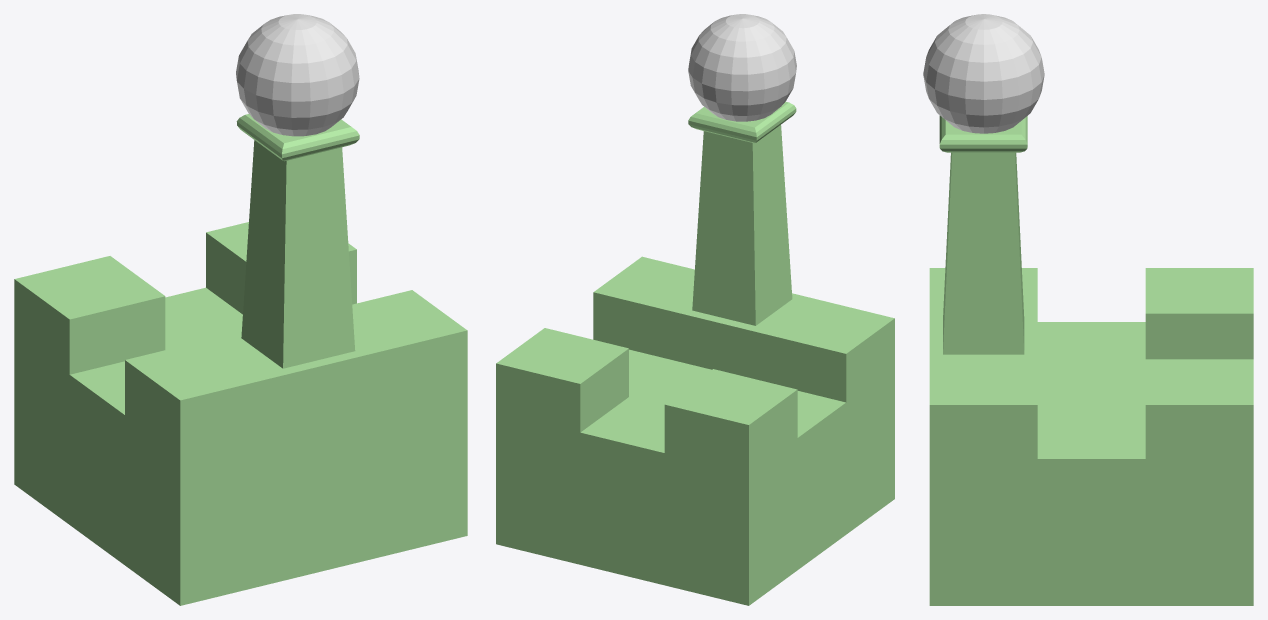
Rendered from TPowerBlock.fbx.
3 renders of one model, left to right at view 1: azimuth 30°, elevation 25°; view 2: azimuth 150°, elevation 25°; view 3: azimuth 270°, elevation 25°, orthographic. The views are drawn at different scales.
Visible parts, largest first — view 1: Cube.004, Cube.009, Sphere.003; view 2: Cube.004, Cube.009, Sphere.003; view 3: Cube.004, Cube.009, Sphere.003.
Part boxes in pixels (bbox=[...]): Cube.004: bbox=[14, 222, 467, 605]; Cube.009: bbox=[236, 114, 359, 368]; Sphere.003: bbox=[236, 14, 359, 136]; Cube.004: bbox=[496, 256, 894, 605]; Cube.009: bbox=[688, 101, 796, 325]; Sphere.003: bbox=[688, 14, 796, 121]; Cube.004: bbox=[929, 268, 1253, 605]; Cube.009: bbox=[939, 115, 1027, 354]; Sphere.003: bbox=[923, 14, 1044, 133].
Bounding box in the file's own units: 400 × 706 × 408.
